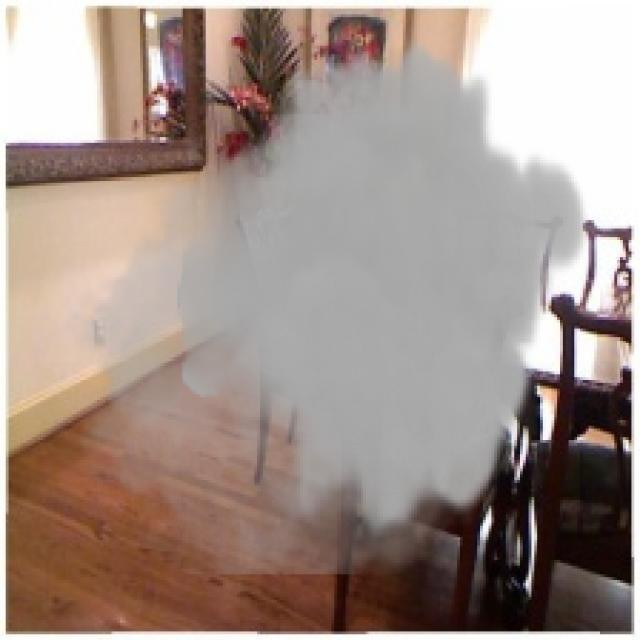Smoke: (63, 37, 592, 574)
